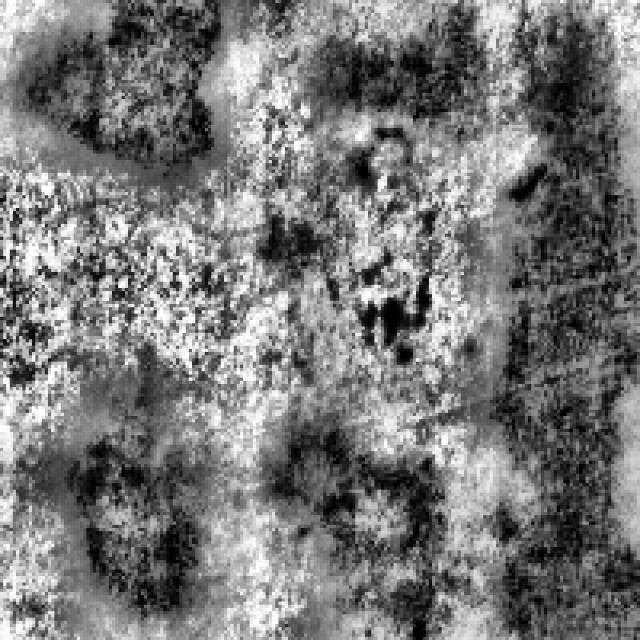Scratches: (489, 29, 636, 634), (259, 403, 448, 614), (13, 0, 221, 176), (61, 374, 205, 612), (310, 0, 490, 131)
